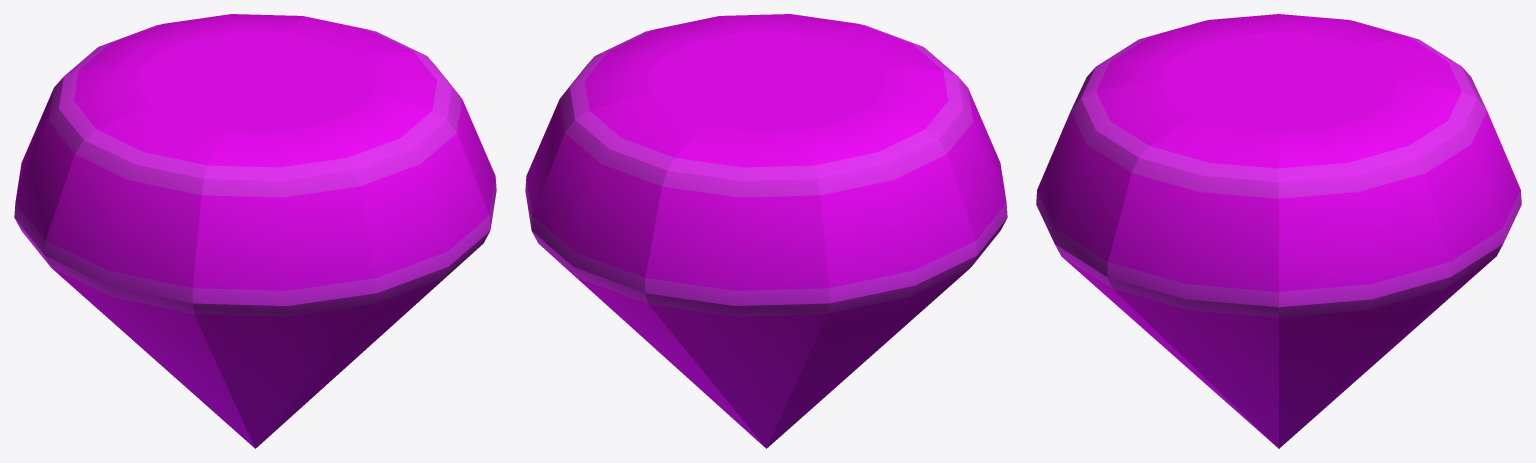
The model's file is Gem_V3_02.fbx.
3 renders of one model, left to right at view 1: azimuth 30°, elevation 25°; view 2: azimuth 150°, elevation 25°; view 3: azimuth 270°, elevation 25°, orthographic.
Parts seen in each view (by area): view 1: Gem_V3_02; view 2: Gem_V3_02; view 3: Gem_V3_02.
Part boxes in pixels (x1,y1,x2,y2): Gem_V3_02: [14, 14, 496, 448]; Gem_V3_02: [525, 14, 1007, 448]; Gem_V3_02: [1036, 14, 1521, 448].
Bounding box in the file's own units: 45.66 × 38.01 × 45.66.
